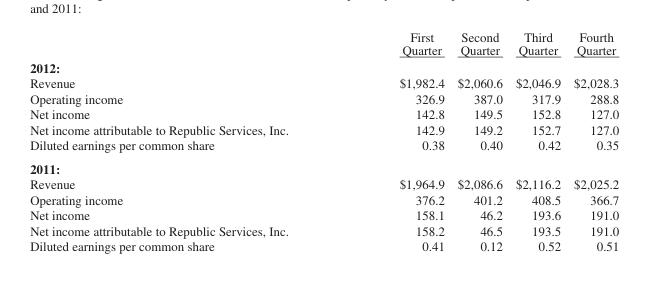table: (29, 29, 618, 252)
table column: (29, 29, 343, 252), (343, 29, 450, 252), (450, 29, 508, 252), (508, 29, 566, 252), (566, 29, 618, 252)
table column header: (29, 29, 618, 58)
table projected row header: (29, 156, 618, 176), (29, 58, 618, 75)
table row: (29, 29, 618, 58), (29, 156, 618, 176), (29, 137, 618, 156), (29, 58, 618, 75), (29, 90, 618, 106), (29, 121, 618, 137), (29, 191, 618, 207), (29, 222, 618, 238), (29, 75, 618, 90), (29, 106, 618, 121), (29, 176, 618, 191), (29, 207, 618, 222), (29, 238, 618, 252)
